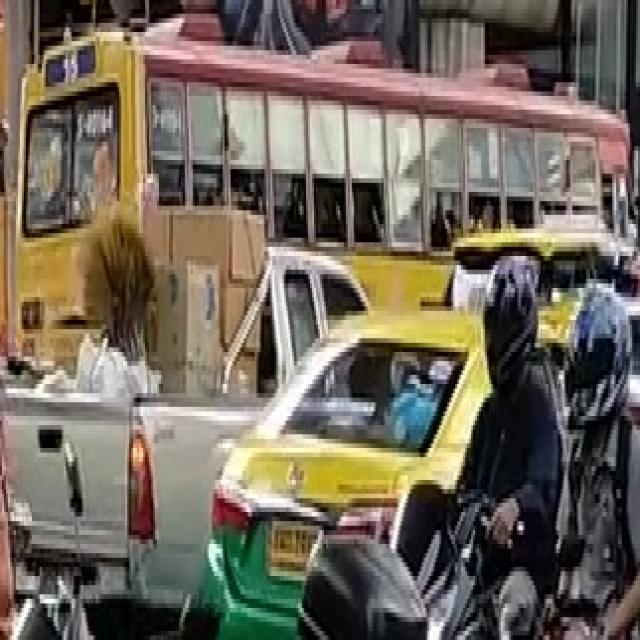helmet: (563, 279, 632, 425), (481, 252, 537, 388)
